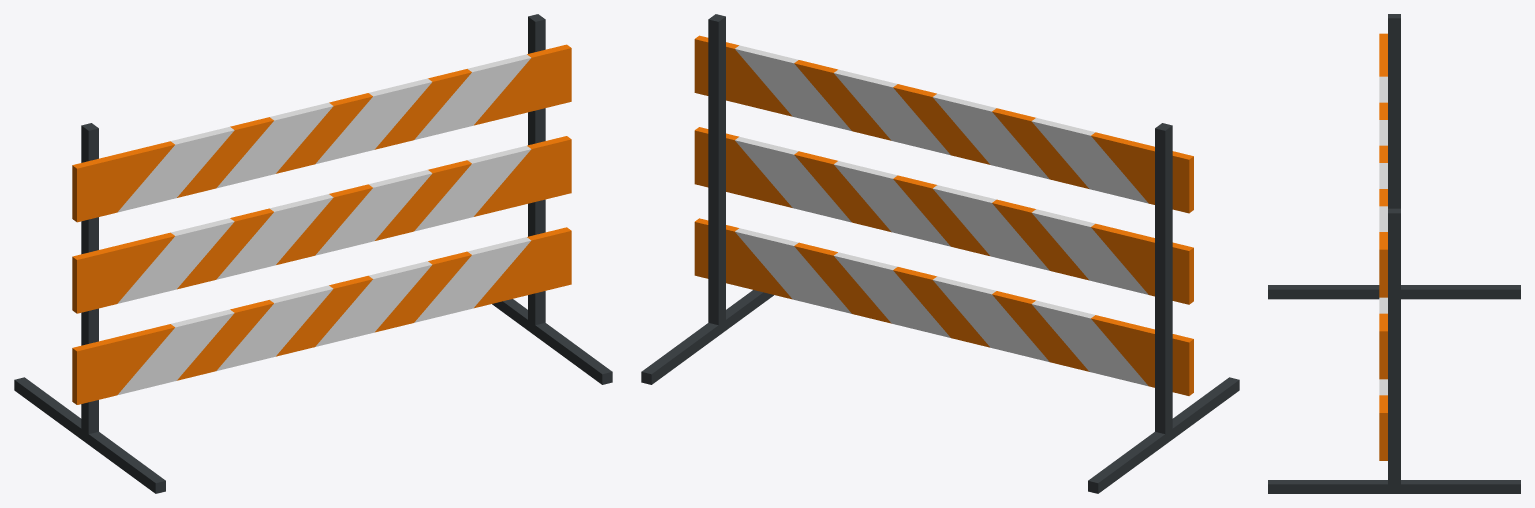
File: SM_FloorProps_04.fbx
The picture shows the model from 3 angles, left to right: view 1: azimuth 30°, elevation 25°; view 2: azimuth 150°, elevation 25°; view 3: azimuth 270°, elevation 25°; orthographic projection. The views are drawn at different scales.
Parts seen in each view (by area): view 1: SM_FloorProps_04; view 2: SM_FloorProps_04; view 3: SM_FloorProps_04.
Part boxes in pixels (left/top/right/bottom): SM_FloorProps_04: left=14, top=14, right=612, bottom=493; SM_FloorProps_04: left=641, top=14, right=1239, bottom=493; SM_FloorProps_04: left=1268, top=14, right=1520, bottom=493.
Bounding box in the file's own units: 1.56 × 0.9492 × 0.7743.
